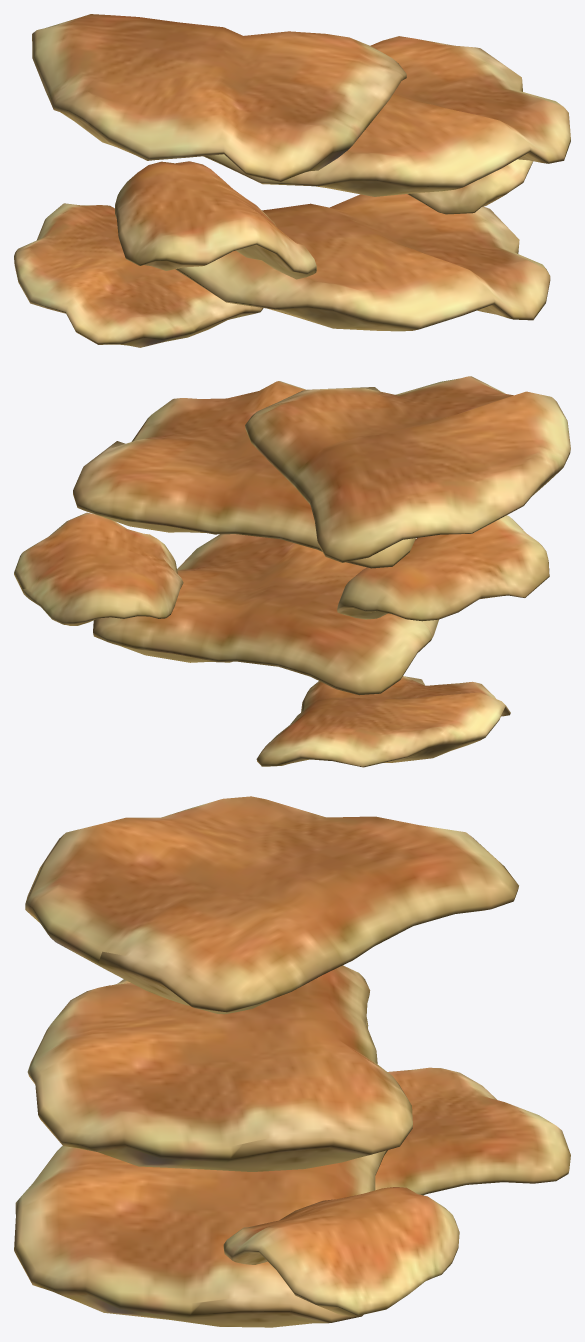
File: n_mush.glb
The picture shows the model from 3 angles, top to bottom: view 1: azimuth 30°, elevation 25°; view 2: azimuth 150°, elevation 25°; view 3: azimuth 270°, elevation 25°; orthographic projection. The views are drawn at different scales.
Parts seen in each view (by area): view 1: Mushroom_Laetiporus; view 2: Mushroom_Laetiporus; view 3: Mushroom_Laetiporus.
Boxes of the visible parts, bbox=[...] form: Mushroom_Laetiporus: bbox=[14, 14, 570, 347]; Mushroom_Laetiporus: bbox=[14, 376, 570, 767]; Mushroom_Laetiporus: bbox=[14, 796, 570, 1327].
Size of the model in its own units: 1.37 by 0.767 by 1.1.
Materials: 1 (1 with a texture image).
